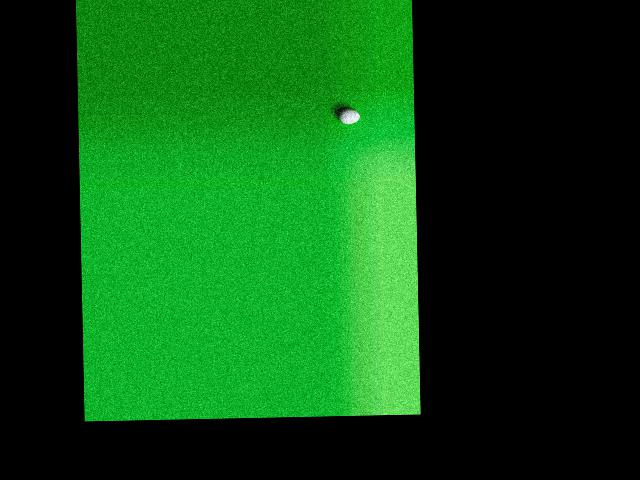egg: (338, 108, 359, 124)
